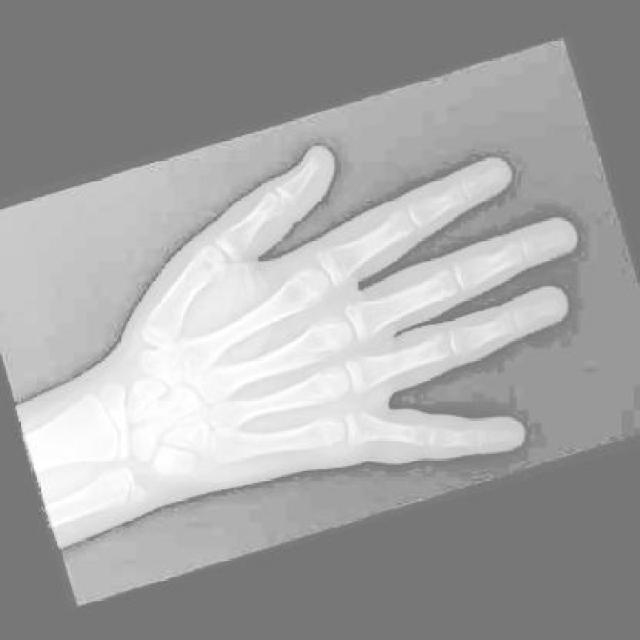Fracture: (346, 405, 380, 447)
